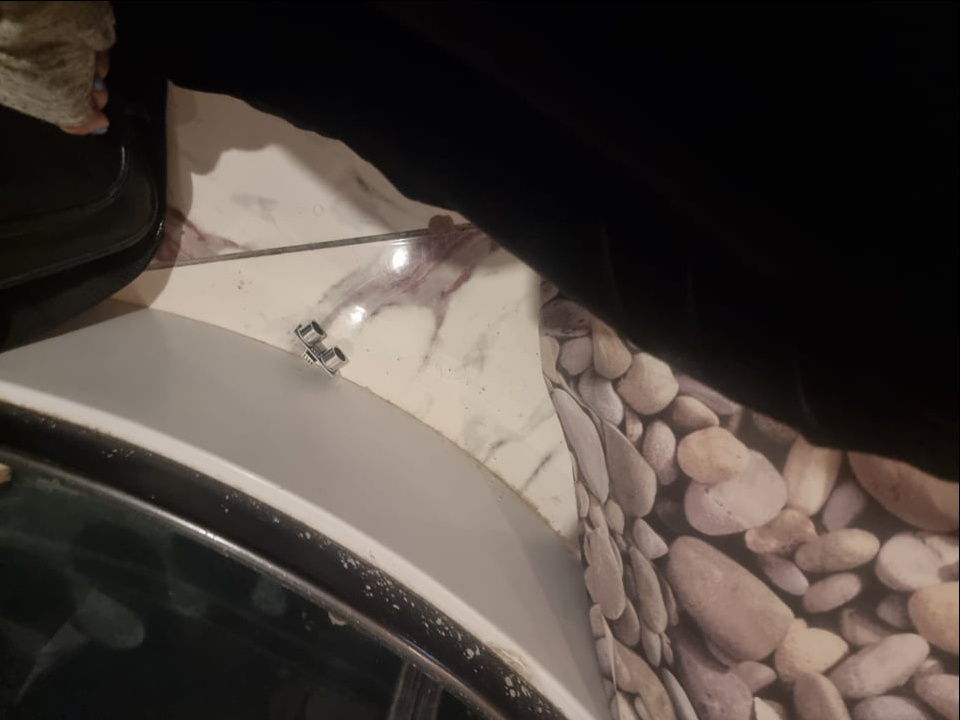SENSOR: (289, 317, 350, 374)
